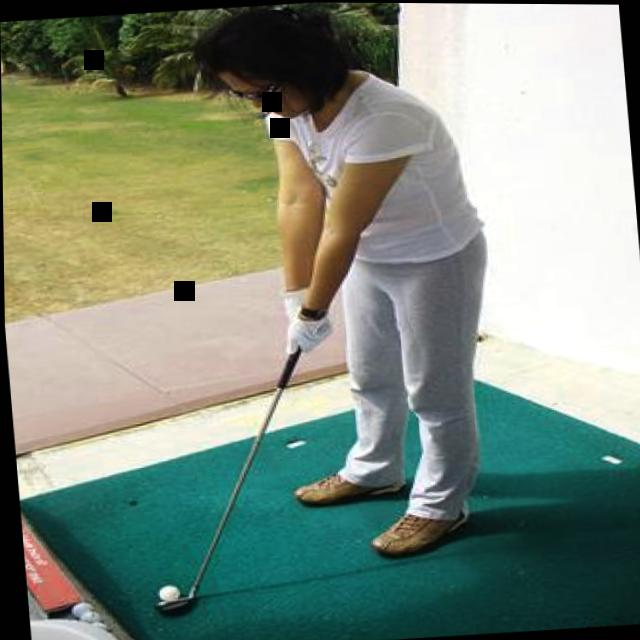golf ball: (154, 583, 178, 602)
